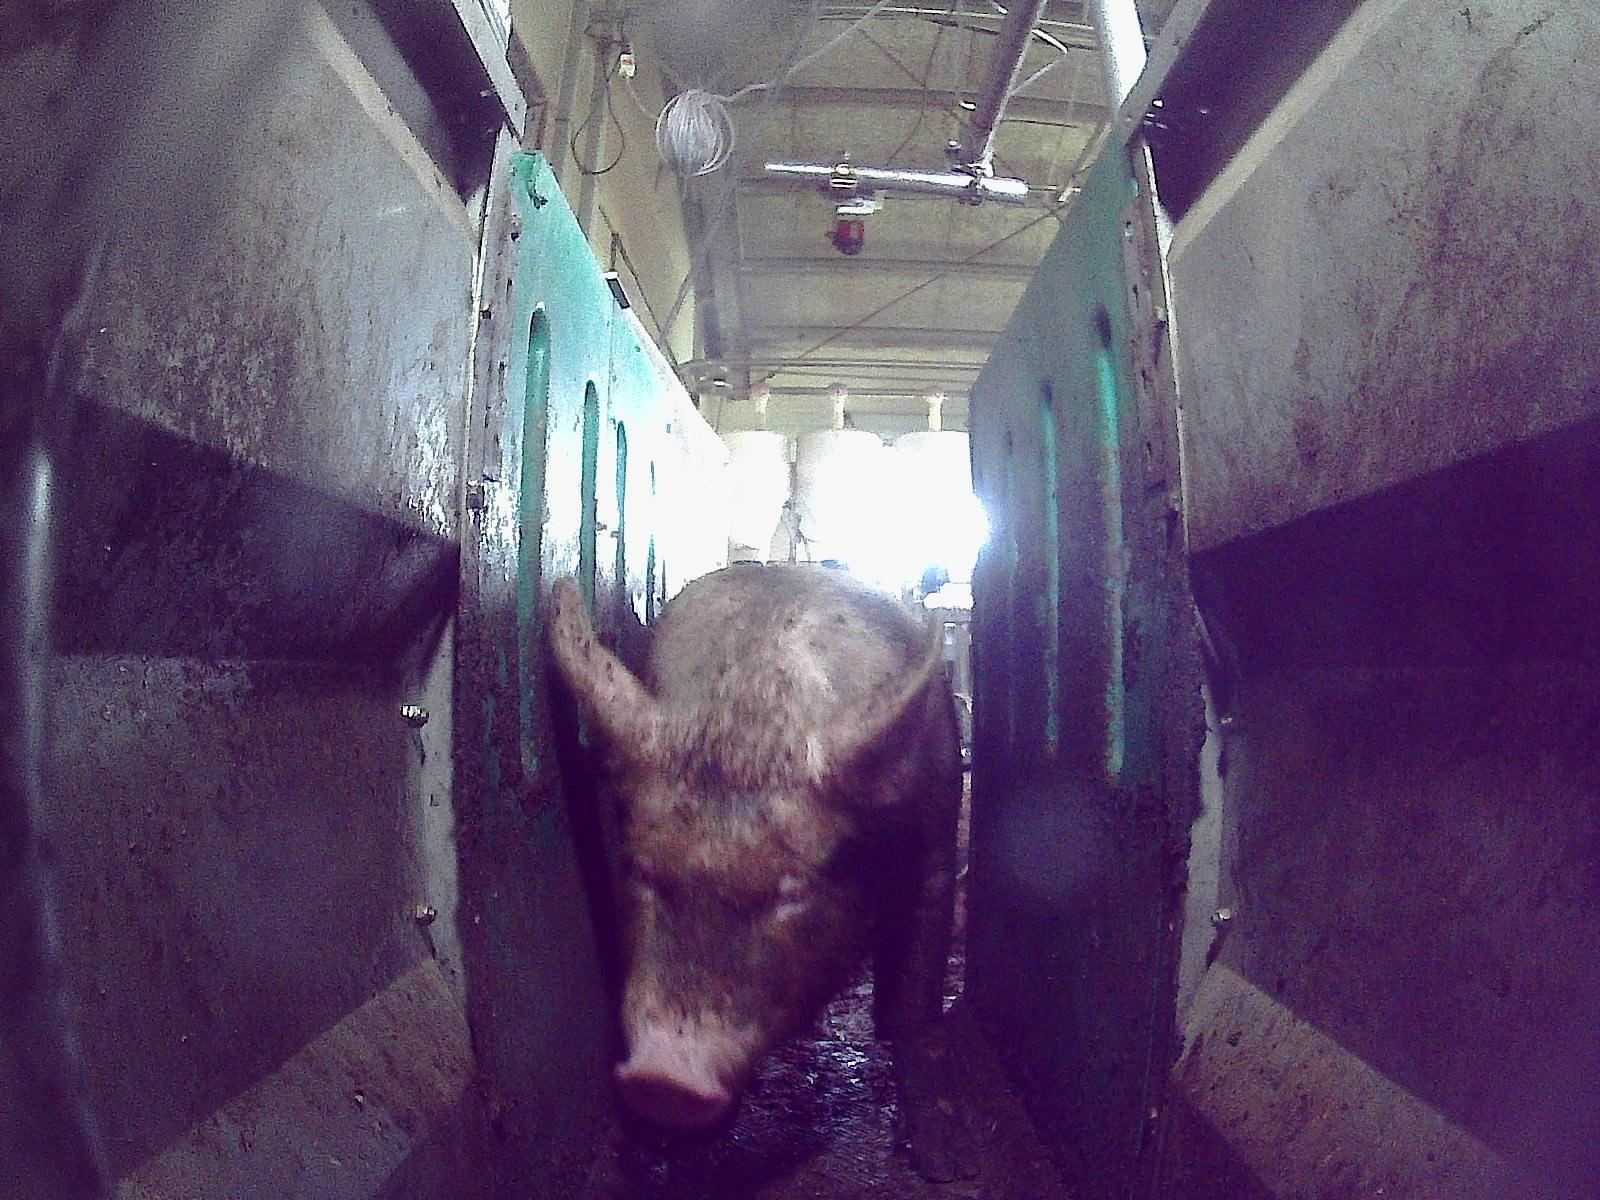Face: (616, 712, 850, 1124)
